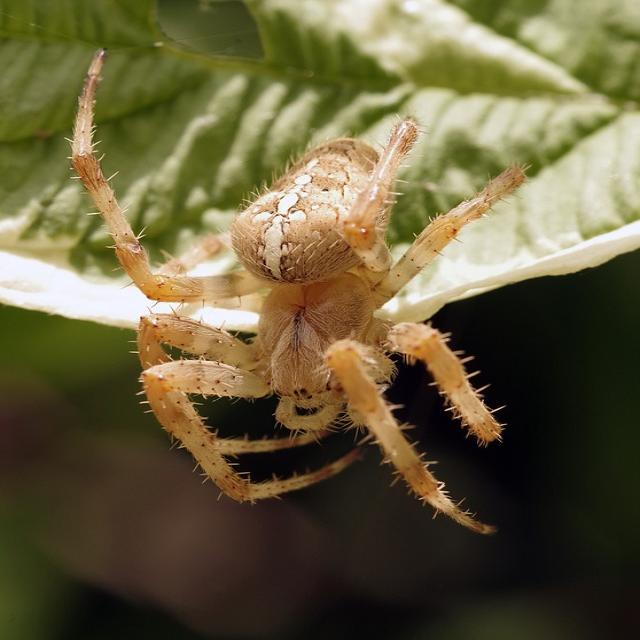spyder: (70, 52, 640, 537)
